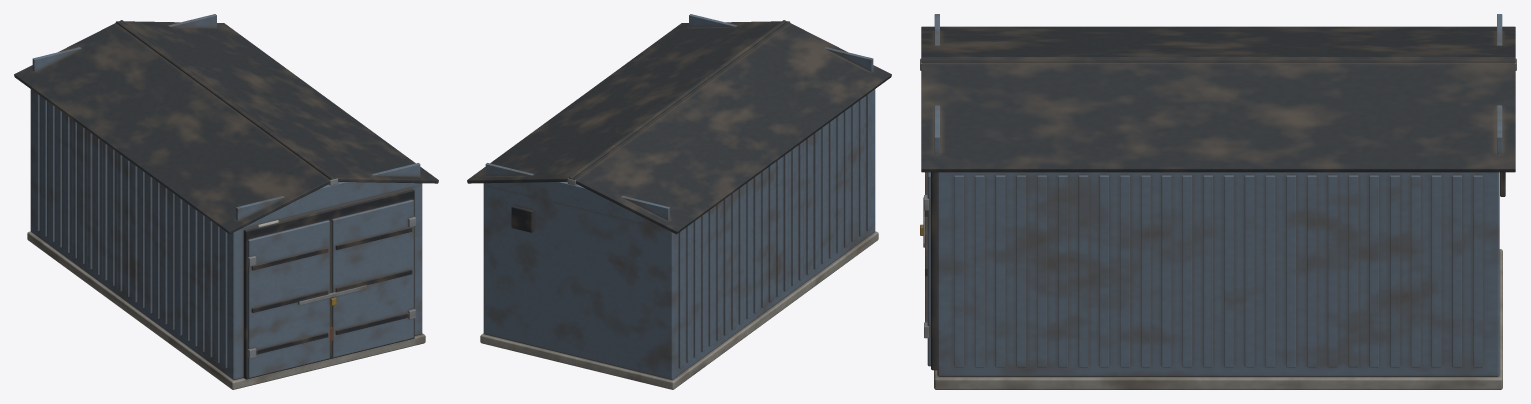
The model's file is blaszak_0.glb.
3 renders of one model, left to right at view 1: azimuth 30°, elevation 25°; view 2: azimuth 150°, elevation 25°; view 3: azimuth 270°, elevation 25°, orthographic. The views are drawn at different scales.
Visible parts, largest first — view 1: Blaszak; view 2: Blaszak; view 3: Blaszak.
Boxes of the visible parts, x1=… form: Blaszak: x1=14, y1=14, x2=438, y2=389; Blaszak: x1=467, y1=14, x2=891, y2=389; Blaszak: x1=920, y1=14, x2=1516, y2=389.
Size of the model in its own units: 3.11 by 2.72 by 5.52.
2 materials, 2 textured.
